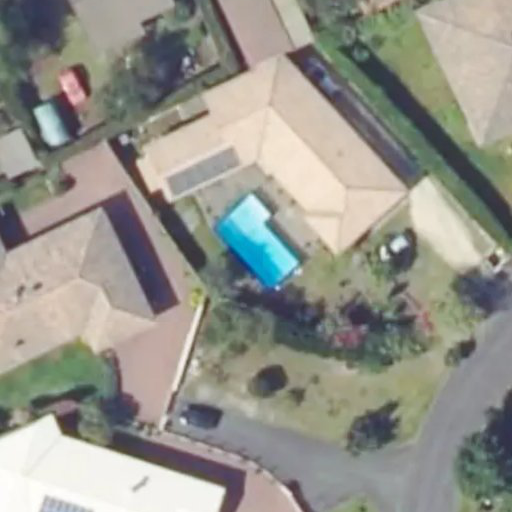pool: (213, 193, 300, 290)
